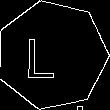L_N: (36, 30, 68, 81)
